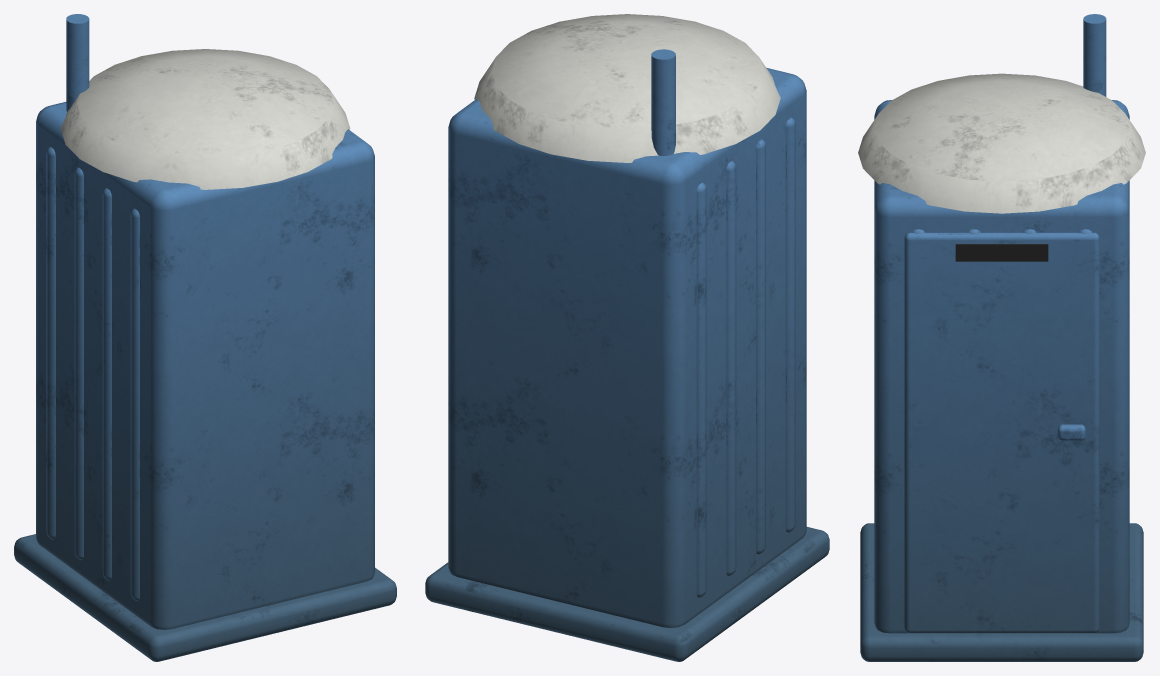
The model's file is prop_portaloo.glb.
The picture shows the model from 3 angles, left to right: view 1: azimuth 30°, elevation 25°; view 2: azimuth 150°, elevation 25°; view 3: azimuth 270°, elevation 25°; orthographic projection. The views are drawn at different scales.
Visible parts, largest first — view 1: Shell, Roof, Bits; view 2: Shell, Roof, Bits; view 3: Bits, Shell, Roof, Vent.
Boxes of the visible parts, x1=… form: Shell: x1=14, y1=102, x2=396, y2=661; Roof: x1=60, y1=49, x2=350, y2=189; Bits: x1=66, y1=14, x2=89, y2=111; Shell: x1=425, y1=67, x2=829, y2=661; Roof: x1=474, y1=14, x2=780, y2=162; Bits: x1=651, y1=49, x2=675, y2=155; Bits: x1=904, y1=14, x2=1106, y2=633; Shell: x1=860, y1=100, x2=1143, y2=661; Roof: x1=858, y1=73, x2=1145, y2=213; Vent: x1=955, y1=244, x2=1048, y2=261.
Bounding box in the file's own units: 1.25 × 2.6 × 1.24.
Materials: 3 (2 with a texture image).
